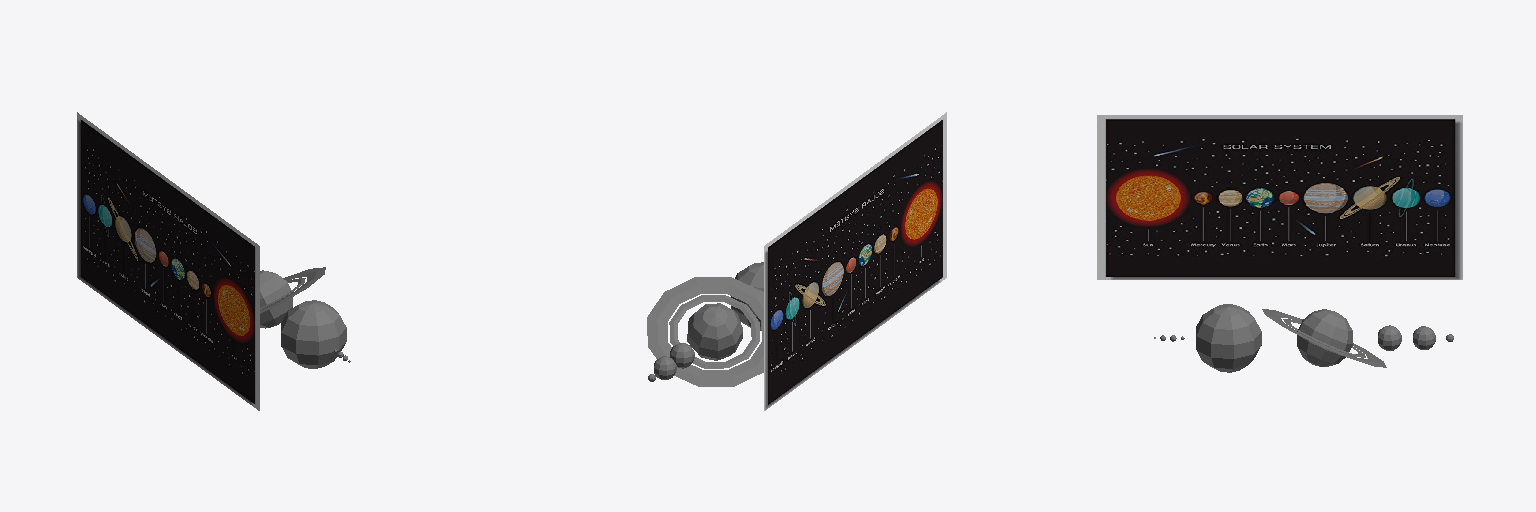
3 renders of one model, left to right at view 1: azimuth 30°, elevation 25°; view 2: azimuth 150°, elevation 25°; view 3: azimuth 270°, elevation 25°, orthographic.
Parts seen in each view (by area): view 1: Plane_Plane.001, Planets.001; view 2: Plane_Plane.001, Planets.001; view 3: Plane_Plane.001, Planets.001.
Part boxes in pixels (left/top/right/bottom): Plane_Plane.001: left=77, top=112, right=259, bottom=410; Planets.001: left=260, top=267, right=350, bottom=368; Plane_Plane.001: left=764, top=112, right=946, bottom=410; Planets.001: left=647, top=262, right=763, bottom=386; Plane_Plane.001: left=1097, top=115, right=1462, bottom=279; Planets.001: left=1154, top=304, right=1453, bottom=372.
Size of the model in its own units: 7.76 by 8.32 by 14.
3 materials, 1 textured.